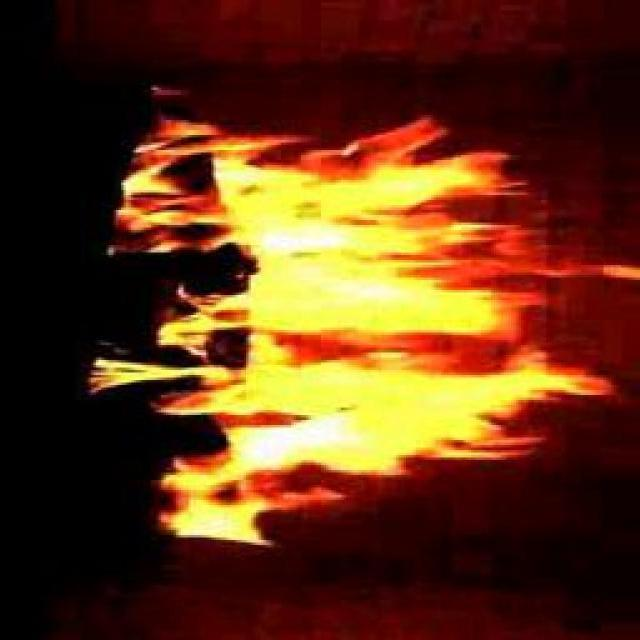Fire: (189, 122, 586, 481)
